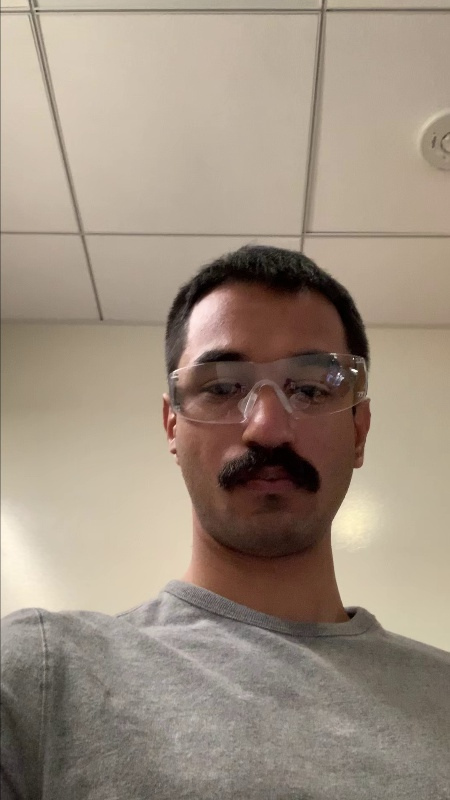glasses: (157, 358, 374, 411)
